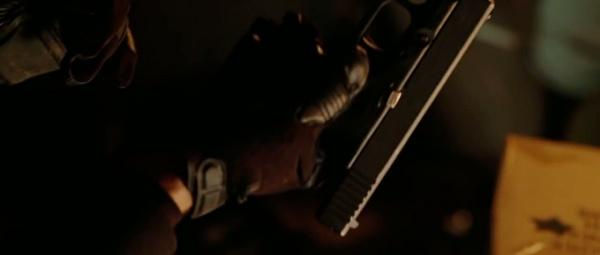Gun: (297, 0, 496, 238)
